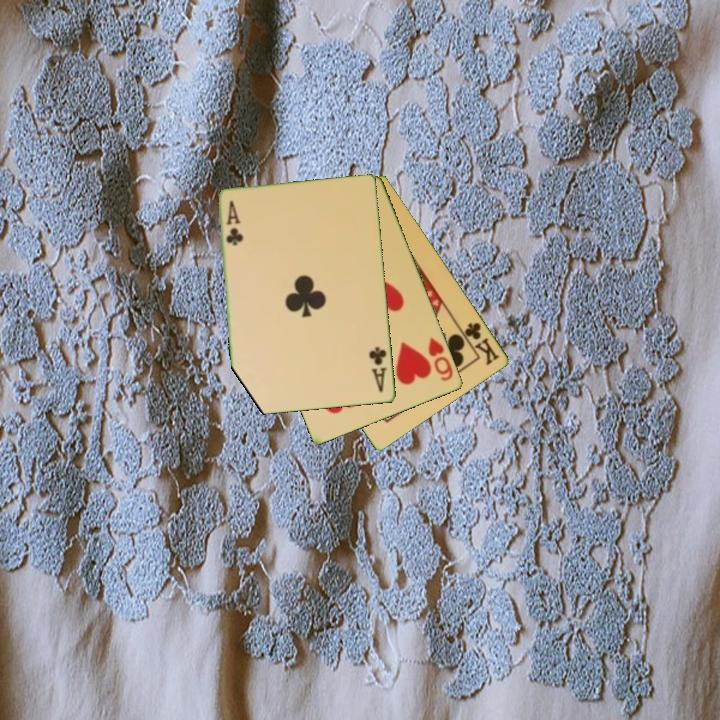6h: (425, 334, 456, 384)
Ac: (366, 344, 390, 395), (223, 197, 245, 249)
Kc: (456, 319, 503, 368)
